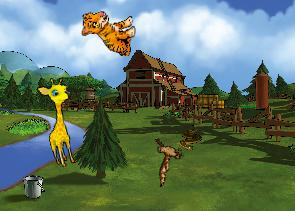eagle: (141, 130, 192, 187)
giraffe: (35, 75, 86, 169)
tiger: (81, 10, 136, 56)
